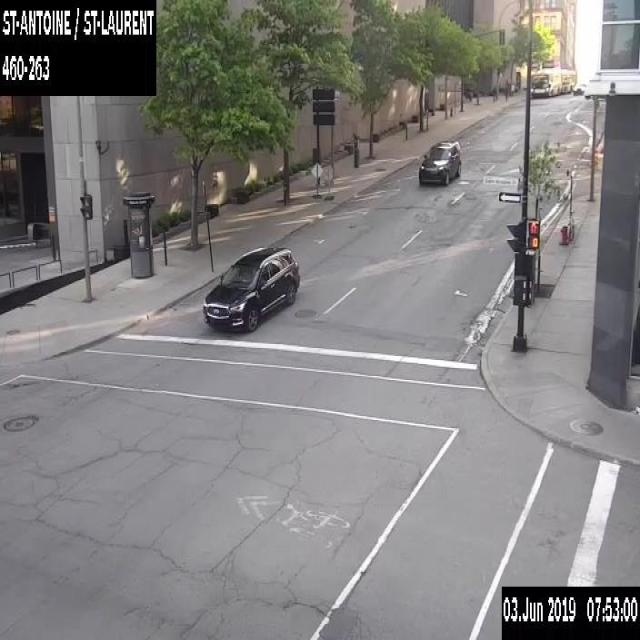bus: (530, 65, 560, 96), (561, 68, 575, 93)
construction: (310, 161, 323, 197), (324, 162, 334, 200)
vehicle: (202, 244, 299, 333), (417, 139, 460, 184), (572, 82, 586, 95)
